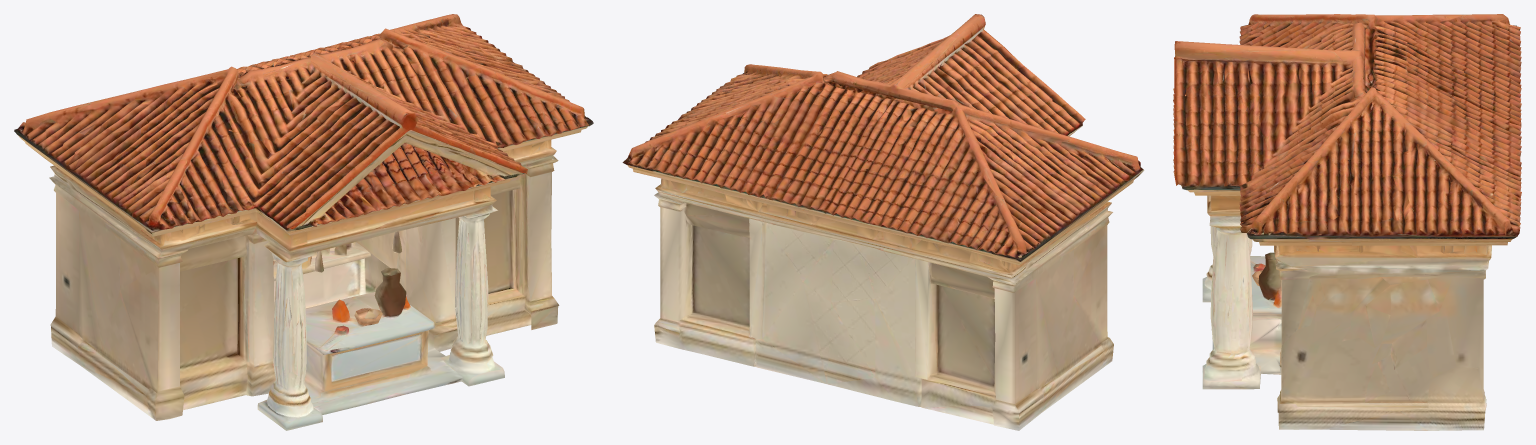
The model's file is market.glb.
The picture shows the model from 3 angles, left to right: view 1: azimuth 30°, elevation 25°; view 2: azimuth 150°, elevation 25°; view 3: azimuth 270°, elevation 25°; orthographic projection. The views are drawn at different scales.
Visible parts, largest first — view 1: 0; view 2: 0; view 3: 0.
Boxes of the visible parts, <box> form: 0: <box>14,14,593,430</box>; 0: <box>622,14,1144,430</box>; 0: <box>1173,14,1521,430</box>.
Bounding box in the file's own units: 1.91 × 1.24 × 1.33.
1 material, 1 textured.
